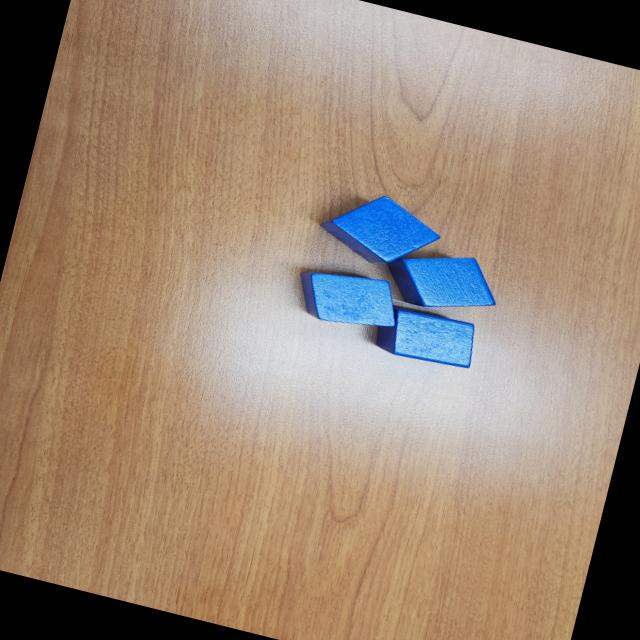blue: (314, 182, 448, 278), (379, 238, 506, 324), (289, 259, 406, 338), (370, 301, 482, 373)
